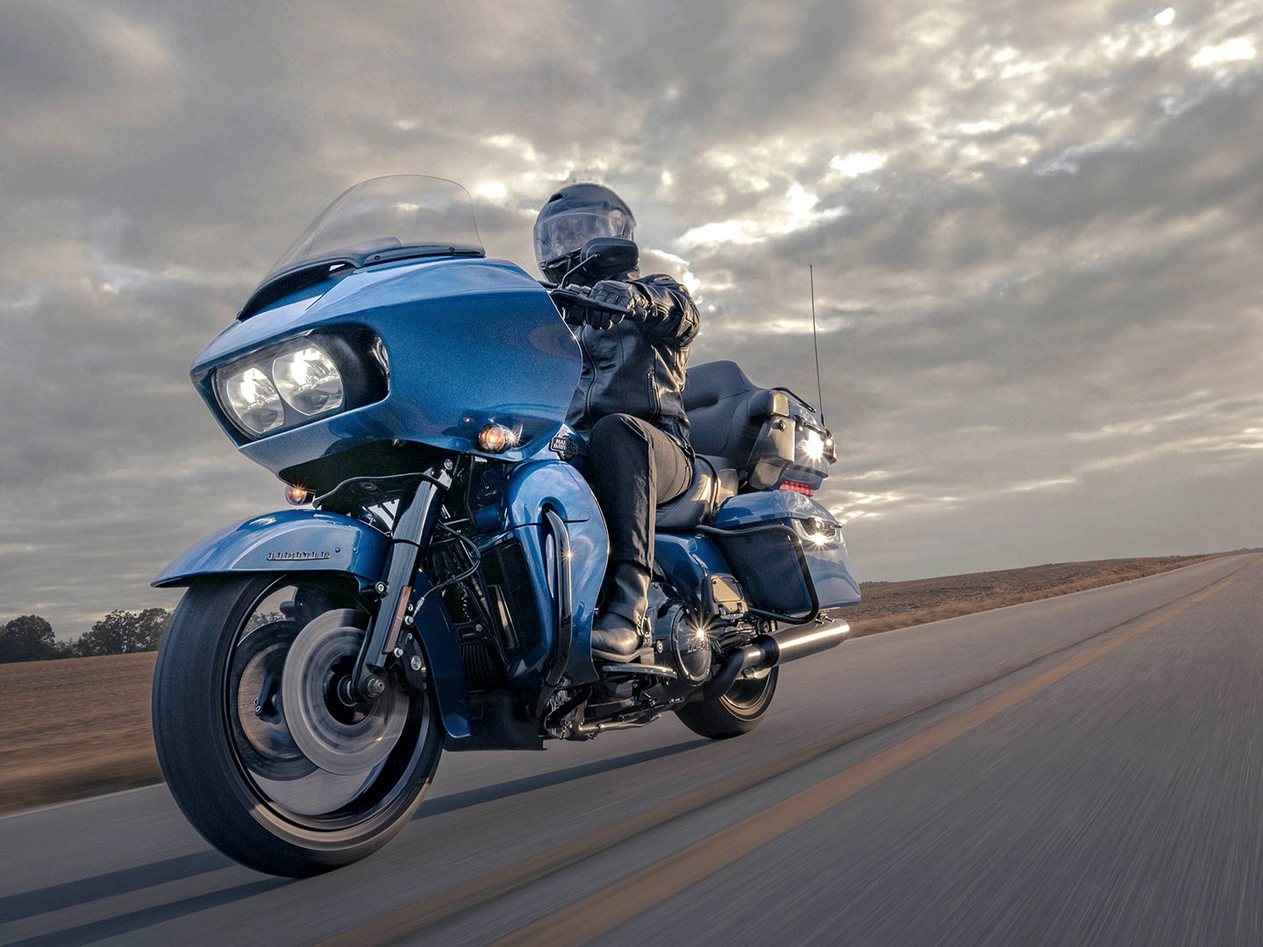Motorcycle: (161, 244, 905, 875)
